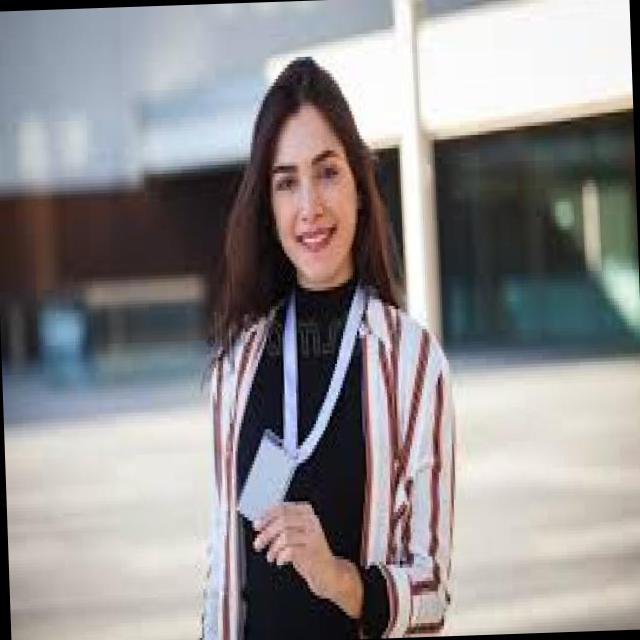id_card: (234, 282, 370, 524)
